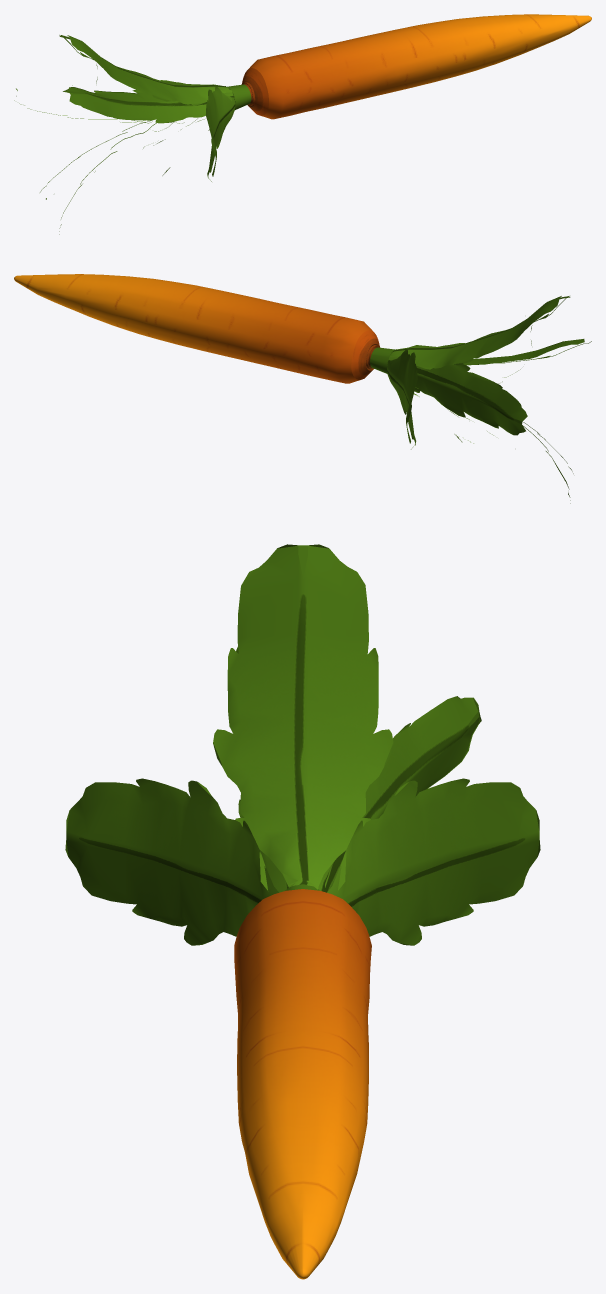
Rendered from carrot.glb.
3 renders of one model, top to bottom at view 1: azimuth 30°, elevation 25°; view 2: azimuth 150°, elevation 25°; view 3: azimuth 270°, elevation 25°, orthographic. The views are drawn at different scales.
Visible parts, largest first — view 1: body, leaf_5, leaf_2, leaf_1; view 2: body, leaf_7, leaf_2, leaf_3, leaf_5; view 3: body, leaf_2, leaf_1, leaf_3, leaf_7.
Part boxes in pixels (x1,y1,x2,y2): body: [227, 14, 591, 119]; leaf_5: [63, 87, 234, 123]; leaf_2: [59, 35, 232, 105]; leaf_1: [205, 87, 235, 181]; body: [14, 274, 394, 383]; leaf_7: [388, 356, 527, 435]; leaf_2: [389, 296, 570, 369]; leaf_3: [387, 350, 417, 449]; leaf_5: [463, 339, 591, 365]; body: [234, 884, 371, 1279]; leaf_2: [213, 544, 393, 889]; leaf_1: [65, 778, 278, 945]; leaf_3: [327, 778, 540, 945]; leaf_7: [318, 696, 481, 892].
Size of the model in its own units: 566 by 207 by 215.
Materials: 3 (3 with a texture image).
